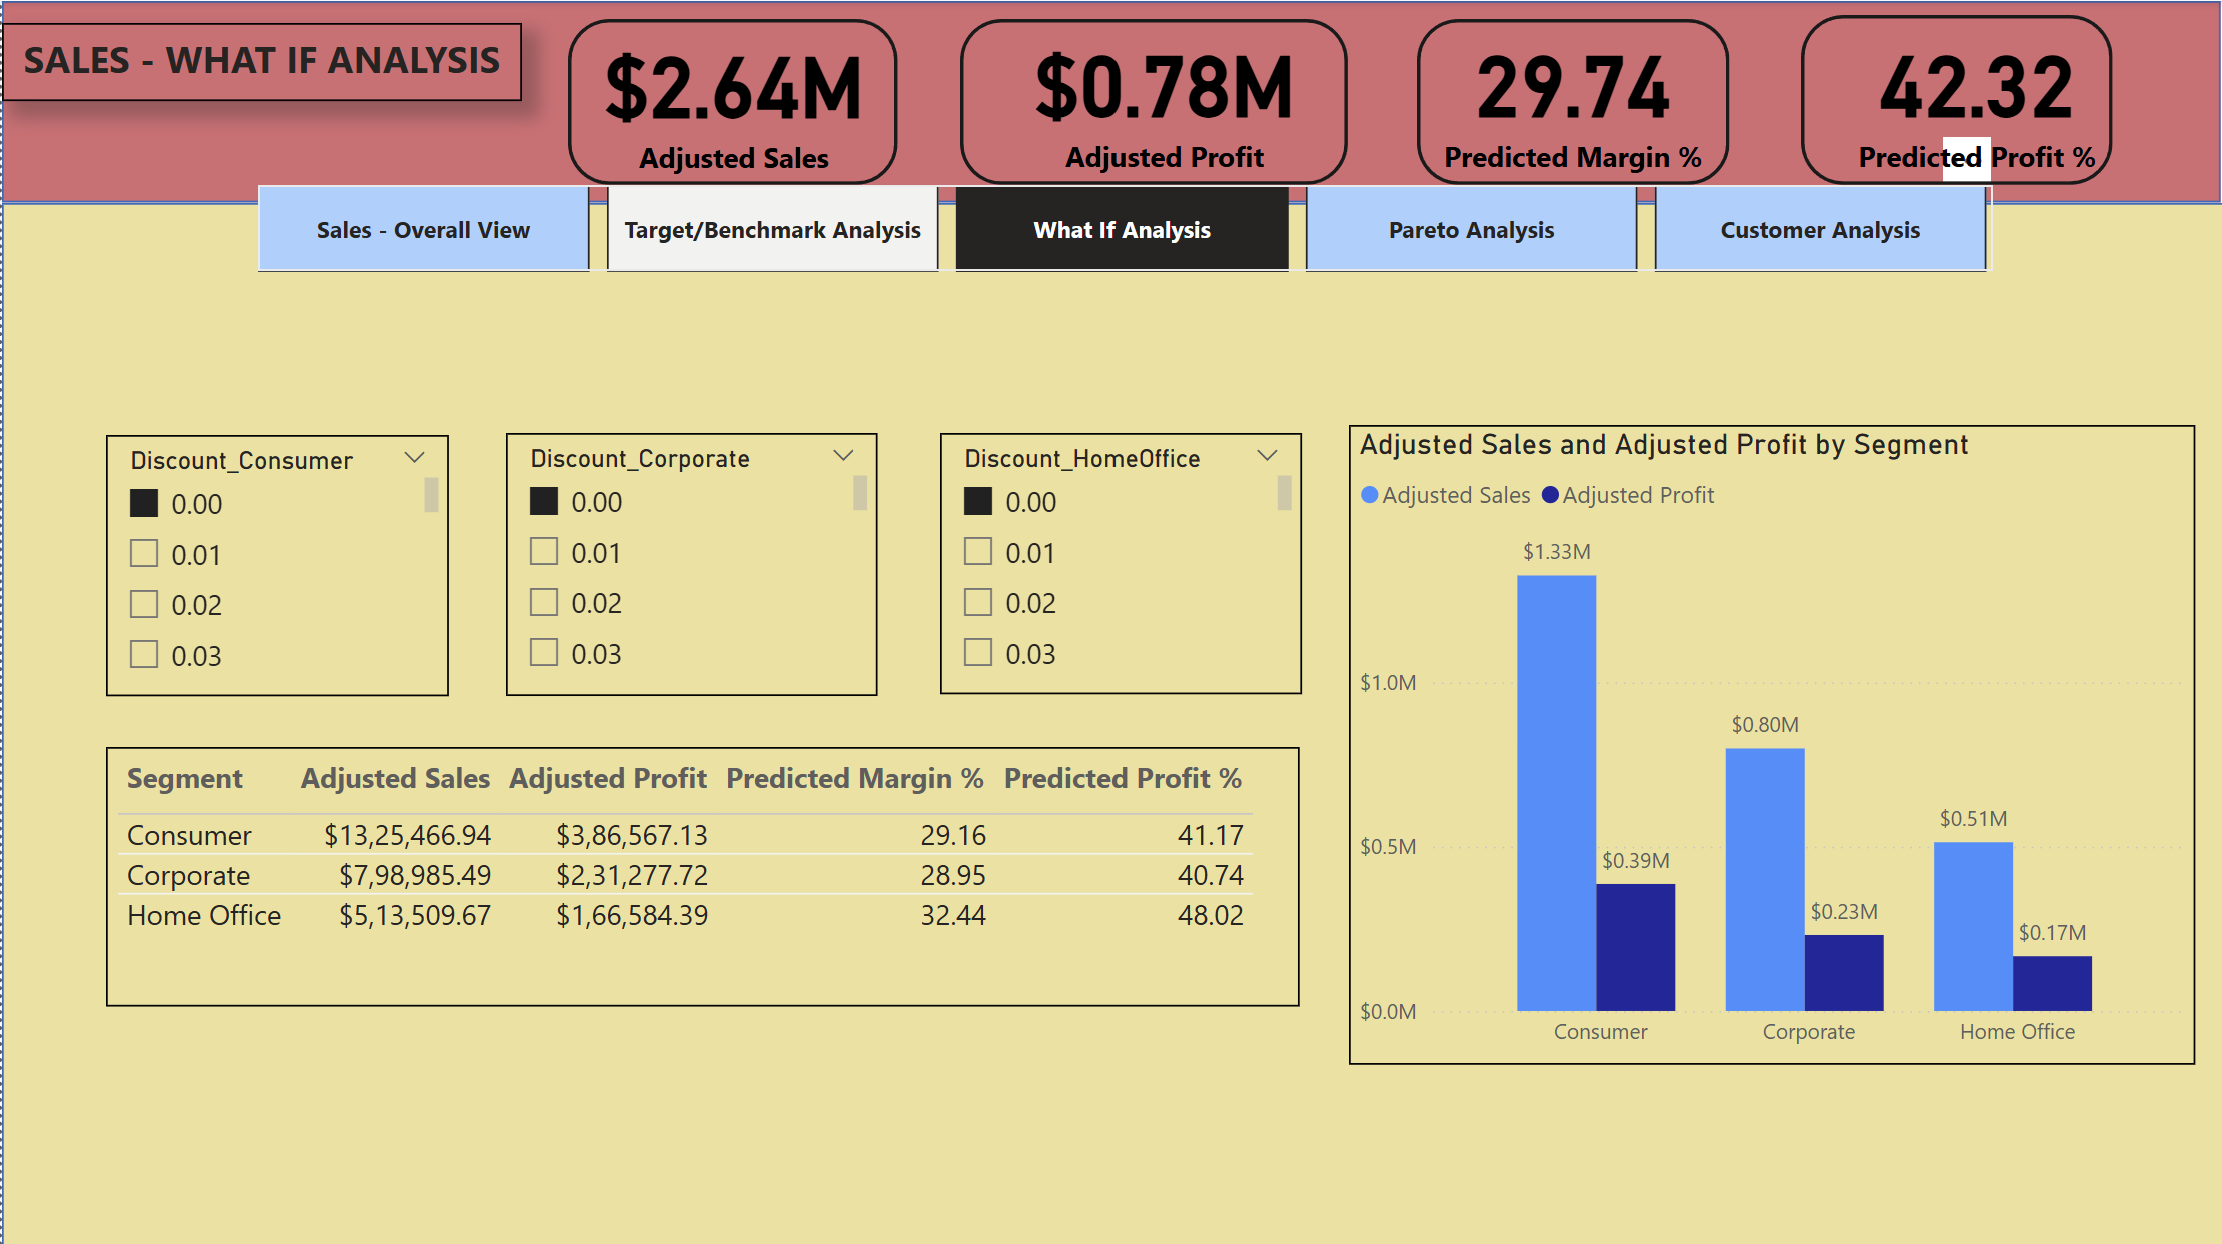

This screenshot's page, from the dashboard's own definition file:
{"tool":"powerbi","page":{"name":"What If Analysis","canvas":[1280,720],"ordinal":2},"visuals":[{"type":"shape","box":[0,0,1280,116.2],"z":0},{"type":"shape","box":[0,116.2,1280,603.7],"z":1000},{"type":"tableEx","fields":{"Values":["Orders.Segment","Measure Table.Adjusted Sales","Measure Table.Adjusted Profit","Measure Table.Predicted Profit %","Measure Table.Predicted Profit %1"]},"box":[59.4,429.3,686.9,149.3],"z":2000},{"type":"card","fields":{"Values":["Measure Table.Adjusted Sales"]},"box":[313.6,0,216.7,109.8],"z":3000},{"type":"card","fields":{"Values":["Measure Table.Adjusted Profit"]},"box":[551.6,0,235.2,108.3],"z":4000},{"type":"card","fields":{"Values":["Measure Table.Predicted Profit %"]},"box":[786.8,0,235.2,108.3],"z":5000},{"type":"slicer","fields":{"Values":["Discount_Consumer.Discount_Consumer"]},"box":[59.9,249.9,197.6,150.4],"z":6000},{"type":"slicer","fields":{"Values":["Discount_Corporate.Discount_Corporate"]},"box":[290.7,248.6,214.2,151.7],"z":7000},{"type":"slicer","fields":{"Values":["Discount_HomeOffice.Discount_HomeOffice"]},"box":[540.6,248.6,207.8,150.4],"z":8000},{"type":"shape","box":[326.1,9.8,190,95.6],"z":9000},{"type":"shape","box":[551.7,9.8,223.1,95.6],"z":10000},{"type":"shape","box":[814.1,9.8,180.2,95.6],"z":11000},{"type":"clusteredColumnChart","fields":{"Y":["Measure Table.Adjusted Sales","Measure Table.Adjusted Profit"],"Category":["Orders.Segment"]},"box":[775.4,244.4,487.4,368.5],"z":12000},{"type":"pageNavigator","box":[147.1,105.4,999.2,50.3],"z":13000},{"type":"textbox","box":[0,12.7,299.5,44.9],"z":14000},{"type":"card","fields":{"Values":["Measure Table.Predicted Profit %"]},"box":[1019.8,0,235.1,108.3],"z":15000},{"type":"shape","box":[1035.6,8.1,179.7,97.9],"z":16000}]}

Visuals, with their boxes in screenshot pixels (x1, y1, x2, y2), scaled from the page's 1280x720 canvas onto the 2222x1244 screenshot:
shape: 0 0 2221 201
shape: 0 201 2221 1243
tableEx - Orders.Segment x Measure Table.Adjusted Sales: 103 742 1296 1000
card - Measure Table.Adjusted Sales: 544 0 921 190
card - Measure Table.Adjusted Profit: 958 0 1366 187
card - Measure Table.Predicted Profit %: 1366 0 1774 187
slicer - Discount_Consumer.Discount_Consumer: 104 432 447 692
slicer - Discount_Corporate.Discount_Corporate: 505 430 876 692
slicer - Discount_HomeOffice.Discount_HomeOffice: 938 430 1299 689
shape: 566 17 896 182
shape: 958 17 1345 182
shape: 1413 17 1726 182
clusteredColumnChart - Measure Table.Adjusted Sales x Measure Table.Adjusted Profit: 1346 422 2192 1059
pageNavigator: 255 182 1990 269
textbox: 0 22 520 100
card - Measure Table.Predicted Profit %: 1770 0 2178 187
shape: 1798 14 2110 183
